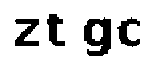c: (118, 16, 142, 49)
g: (80, 17, 113, 60)
t: (43, 10, 70, 52)
z: (11, 16, 42, 50)
